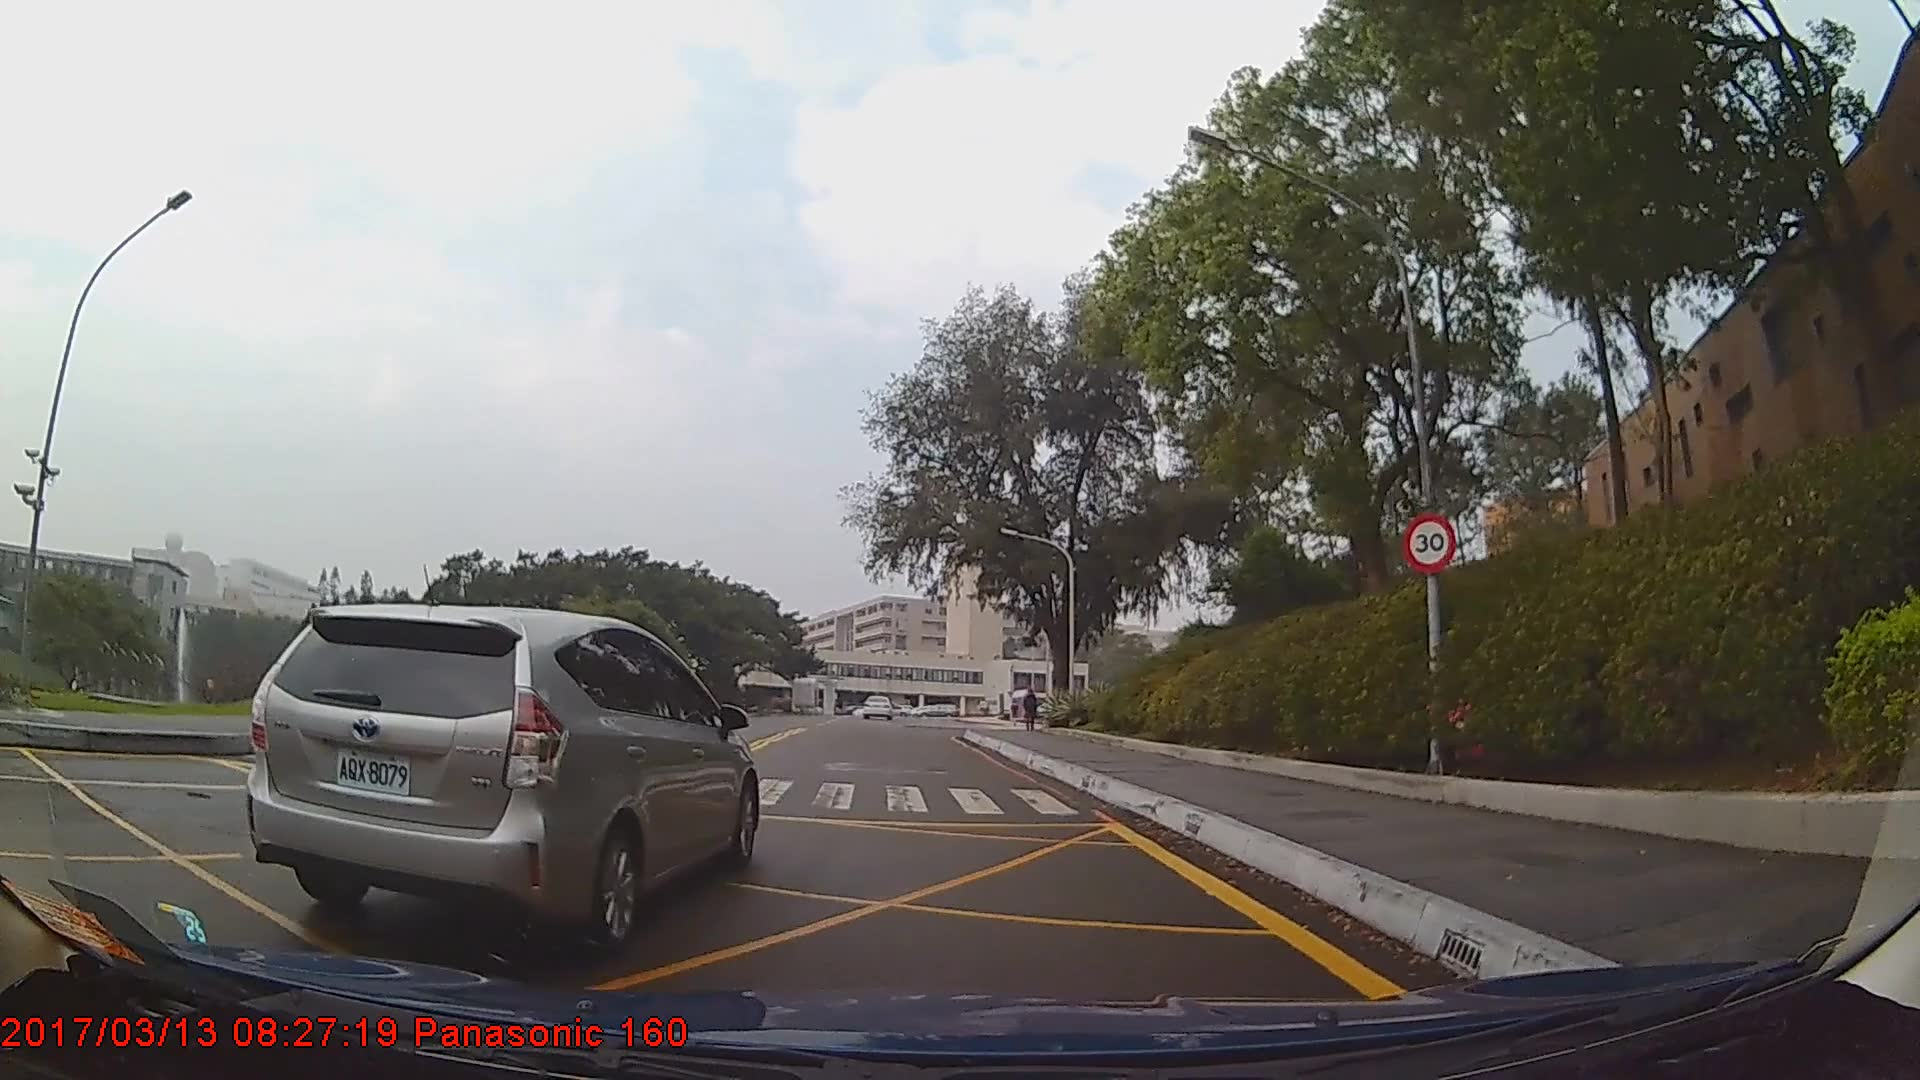pedestrian: (1021, 689, 1041, 735)
vehicle: (244, 598, 759, 953), (860, 693, 889, 720)
